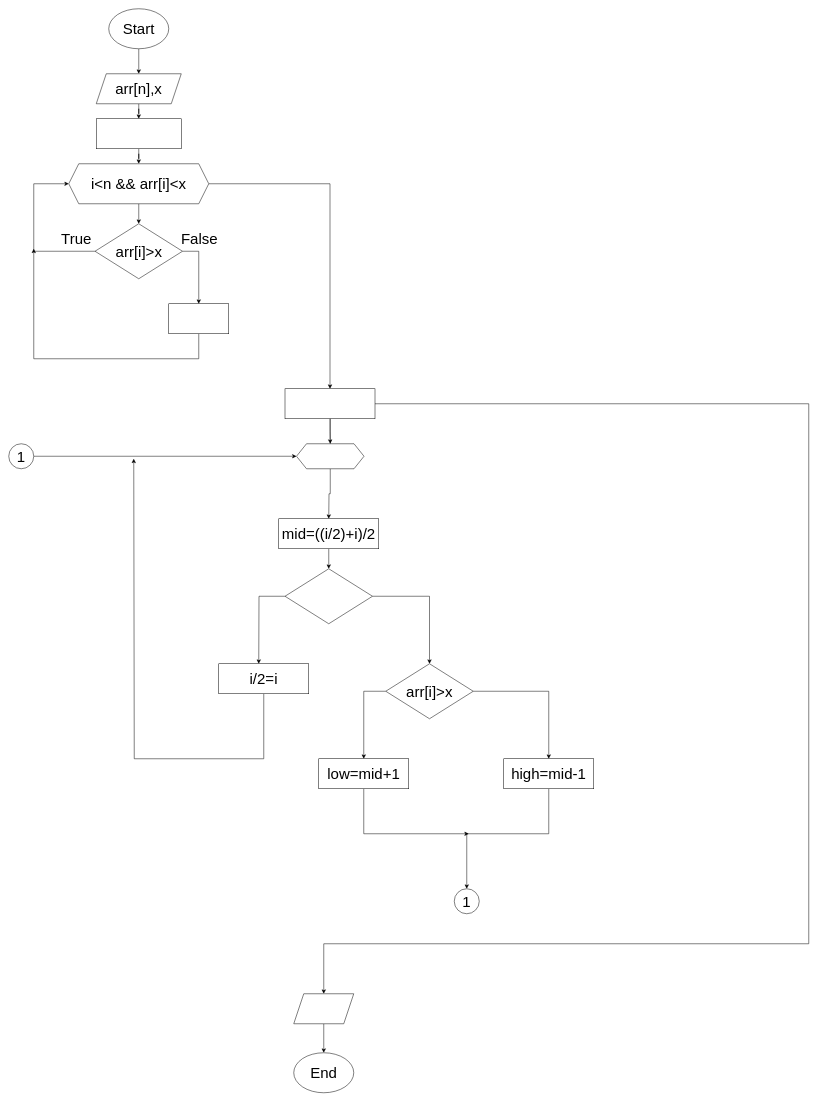
Image size: 822x1102. Some labels were removed from this diagram. The centre of each missing label's shape, as x and y in pixels:
arr[i]=x: (328,596)
i/2<i: (330,456)
i=i*2: (198,318)
int i =1: (138,133)
int mid =0: (329,403)
mid: (323,1008)
